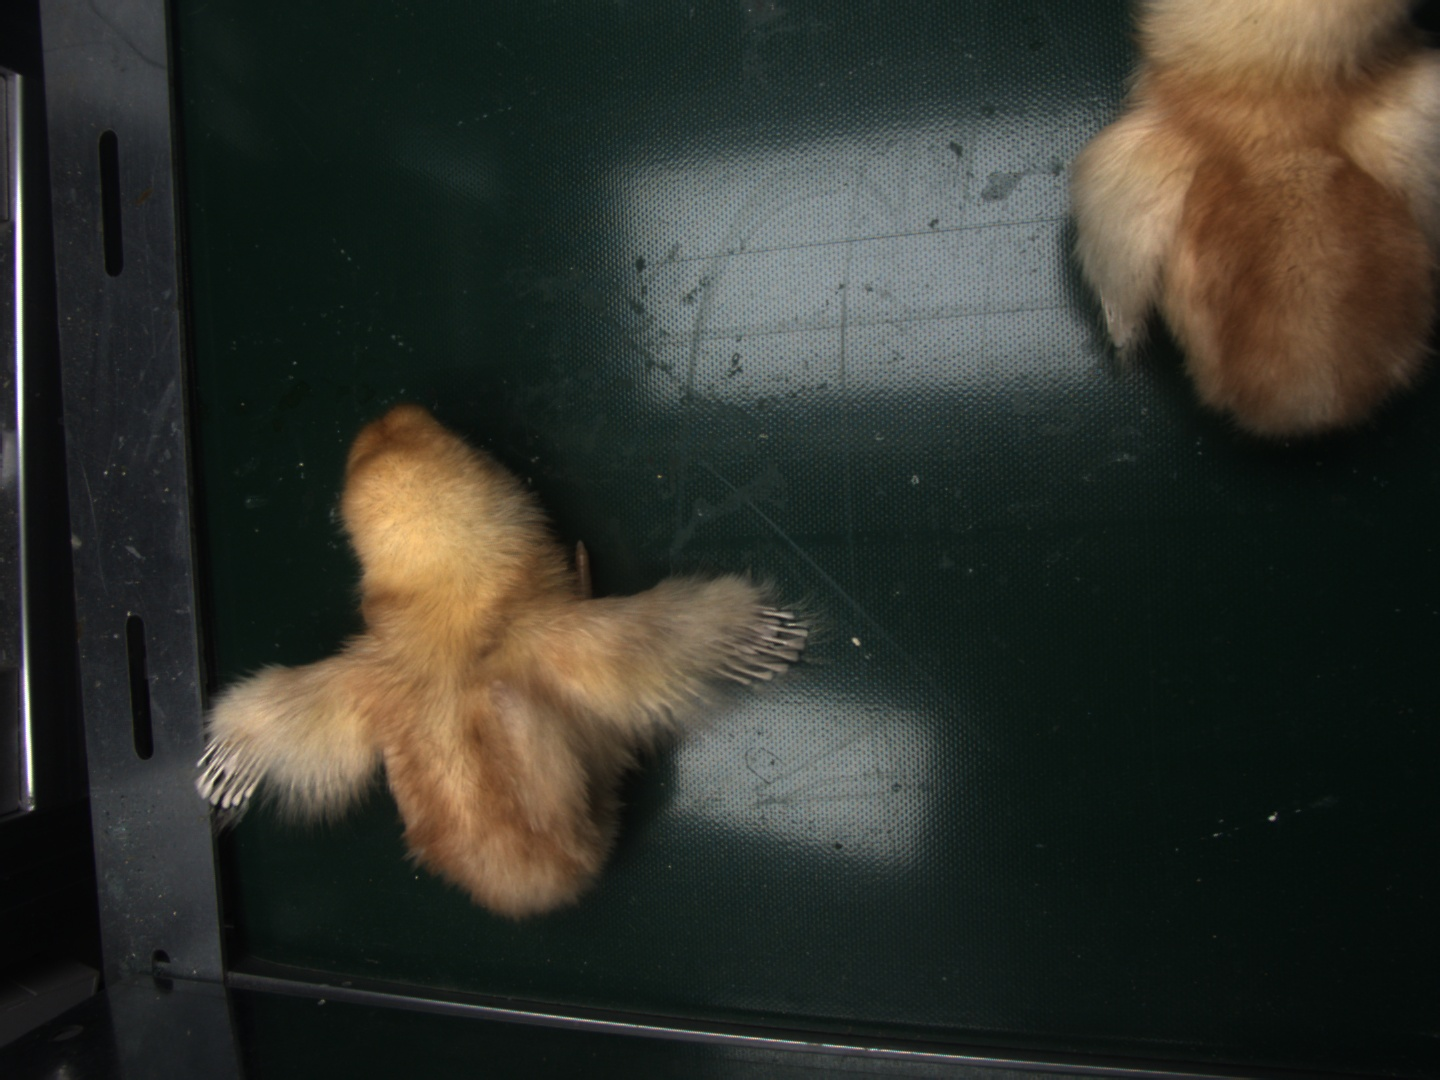female: (725, 607, 808, 687), (190, 732, 266, 809)
